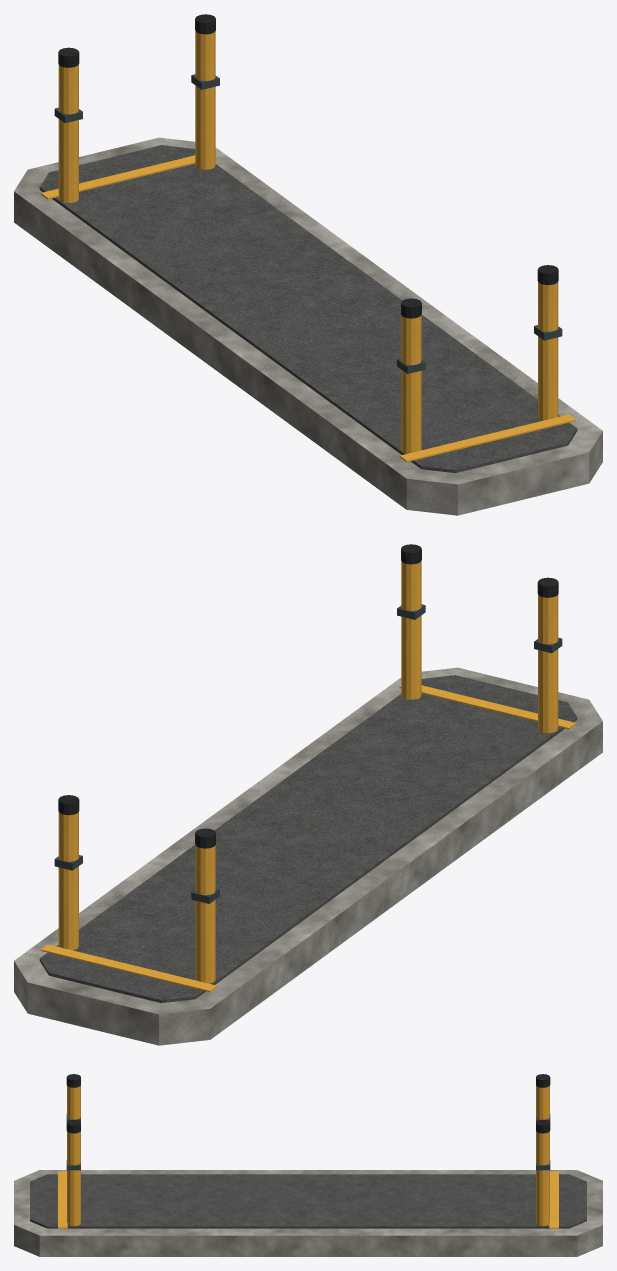
The model's file is CW24_03_Pump_Island.glb.
3 renders of one model, top to bottom at view 1: azimuth 30°, elevation 25°; view 2: azimuth 150°, elevation 25°; view 3: azimuth 270°, elevation 25°, orthographic. The views are drawn at different scales.
Visible parts, largest first — view 1: Pump_Island__Island_Wearing_Surface, Pump_Island__Island_Elevated_Curb, Pump_Island__Protective_Steel_Bollards, Pump_Island__Island_Tactile_Stripe, Pump_Island__Protective_Bollard_Black_Caps, Pump_Island__Bollard_Dark_Reflective_Strip; view 2: Pump_Island__Island_Wearing_Surface, Pump_Island__Island_Elevated_Curb, Pump_Island__Protective_Steel_Bollards, Pump_Island__Island_Tactile_Stripe, Pump_Island__Protective_Bollard_Black_Caps, Pump_Island__Bollard_Dark_Reflective_Strip; view 3: Pump_Island__Island_Wearing_Surface, Pump_Island__Island_Elevated_Curb, Pump_Island__Protective_Steel_Bollards, Pump_Island__Island_Tactile_Stripe, Pump_Island__Protective_Bollard_Black_Caps, Pump_Island__Bollard_Dark_Reflective_Strip.
Part boxes in pixels (x1=…): Pump_Island__Island_Wearing_Surface: x1=39, y1=145, x2=577, y2=472; Pump_Island__Island_Elevated_Curb: x1=14, y1=137, x2=602, y2=515; Pump_Island__Protective_Steel_Bollards: x1=58, y1=31, x2=558, y2=453; Pump_Island__Island_Tactile_Stripe: x1=41, y1=155, x2=575, y2=461; Pump_Island__Protective_Bollard_Black_Caps: x1=58, y1=14, x2=558, y2=318; Pump_Island__Bollard_Dark_Reflective_Strip: x1=54, y1=74, x2=562, y2=373; Pump_Island__Island_Wearing_Surface: x1=39, y1=675, x2=577, y2=1002; Pump_Island__Island_Elevated_Curb: x1=14, y1=667, x2=602, y2=1045; Pump_Island__Protective_Steel_Bollards: x1=58, y1=561, x2=558, y2=983; Pump_Island__Island_Tactile_Stripe: x1=41, y1=685, x2=575, y2=991; Pump_Island__Protective_Bollard_Black_Caps: x1=58, y1=544, x2=558, y2=848; Pump_Island__Bollard_Dark_Reflective_Strip: x1=54, y1=604, x2=562, y2=903; Pump_Island__Island_Wearing_Surface: x1=30, y1=1174, x2=586, y2=1228; Pump_Island__Island_Elevated_Curb: x1=14, y1=1170, x2=602, y2=1256; Pump_Island__Protective_Steel_Bollards: x1=67, y1=1085, x2=549, y2=1226; Pump_Island__Island_Tactile_Stripe: x1=58, y1=1171, x2=558, y2=1228; Pump_Island__Protective_Bollard_Black_Caps: x1=66, y1=1074, x2=550, y2=1133; Pump_Island__Bollard_Dark_Reflective_Strip: x1=66, y1=1114, x2=550, y2=1170.
Size of the model in its own units: 1.45 by 1.28 by 5.5.
5 materials, 5 textured.
